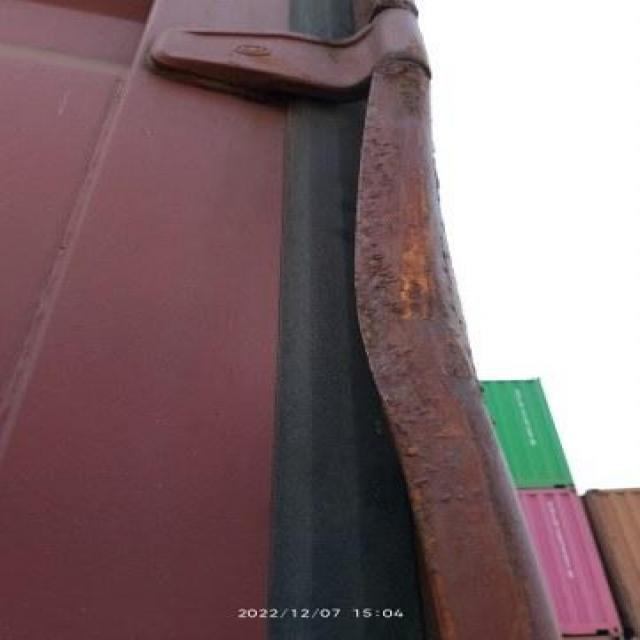Dent: (354, 124, 510, 500)
